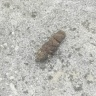Dog: (35, 29, 67, 60)
